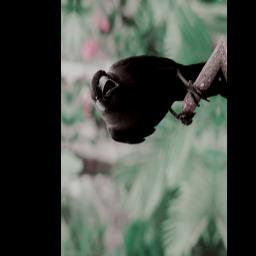Crow: (87, 44, 221, 156)
